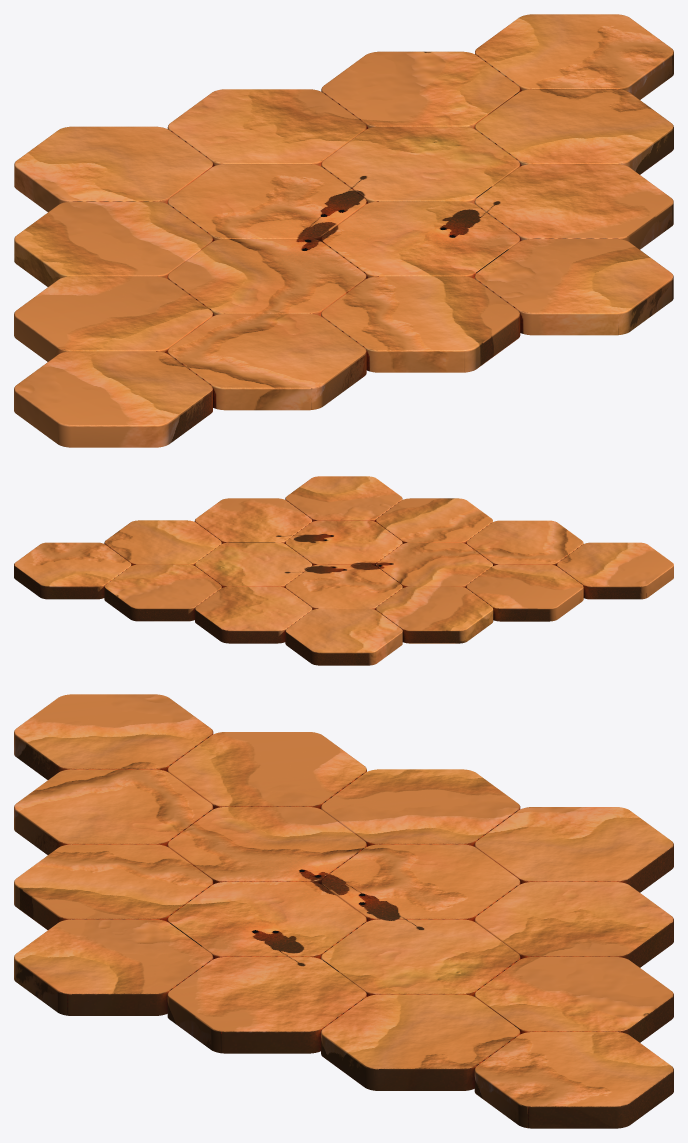
Rendered from hex-tiles.dae.
3 views of the same model, one above another, from view 1: azimuth 30°, elevation 25°; view 2: azimuth 150°, elevation 25°; view 3: azimuth 270°, elevation 25° (orthographic). The views are drawn at different scales.
Parts seen in each view (by area): view 1: Cylinder.028; view 2: Cylinder.028; view 3: Cylinder.028.
Part boxes in pixels (x1,y1,x2,y2): Cylinder.028: (14,14,673,447); Cylinder.028: (14,476,673,665); Cylinder.028: (14,694,673,1128).
Bounding box in the file's own units: 9.53 × 6.44 × 0.2375.
